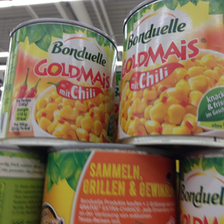corn: (117, 1, 223, 148), (1, 18, 112, 141), (37, 145, 178, 224)
